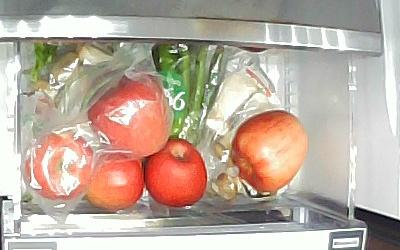apple: (231, 110, 309, 195), (145, 138, 207, 208), (86, 149, 146, 211)
apple_vinyl: (86, 72, 169, 158), (25, 129, 92, 200)
